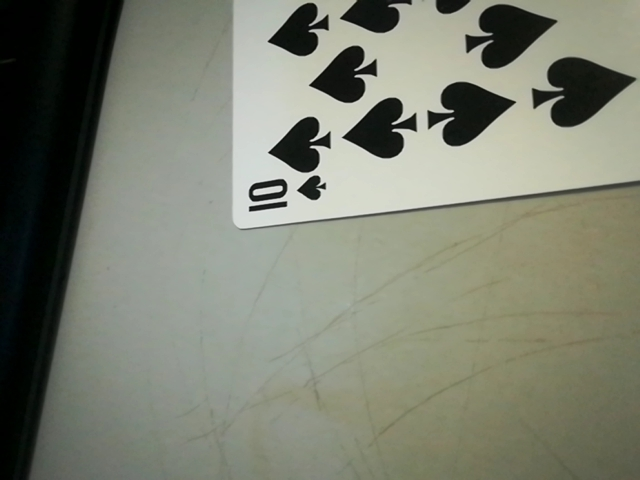ht 10: (229, 166, 330, 224)
